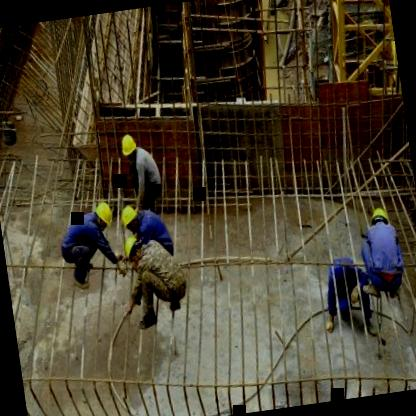helmet: (116, 200, 144, 232), (367, 199, 393, 232), (122, 232, 146, 265), (92, 196, 115, 230), (118, 127, 140, 162), (326, 251, 349, 280)
